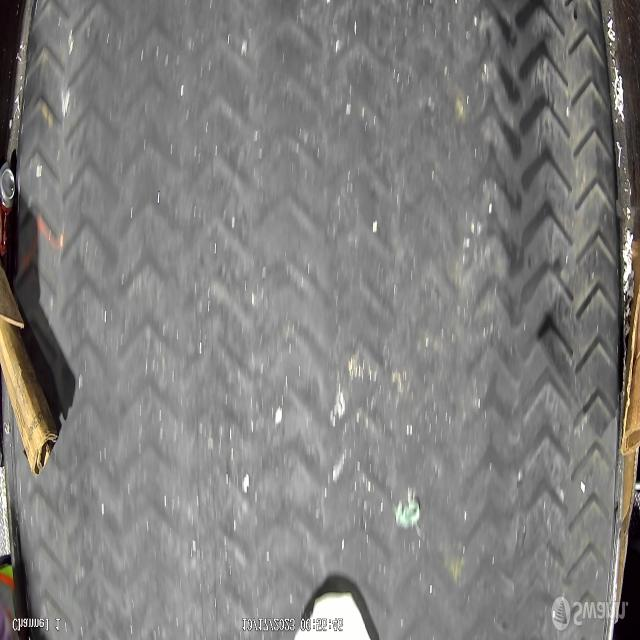can: (0, 162, 15, 256)
